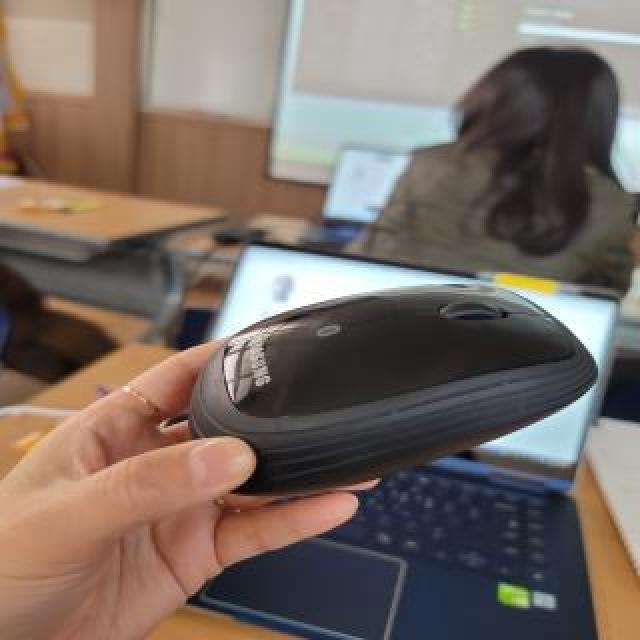mouse: (185, 272, 605, 473)
